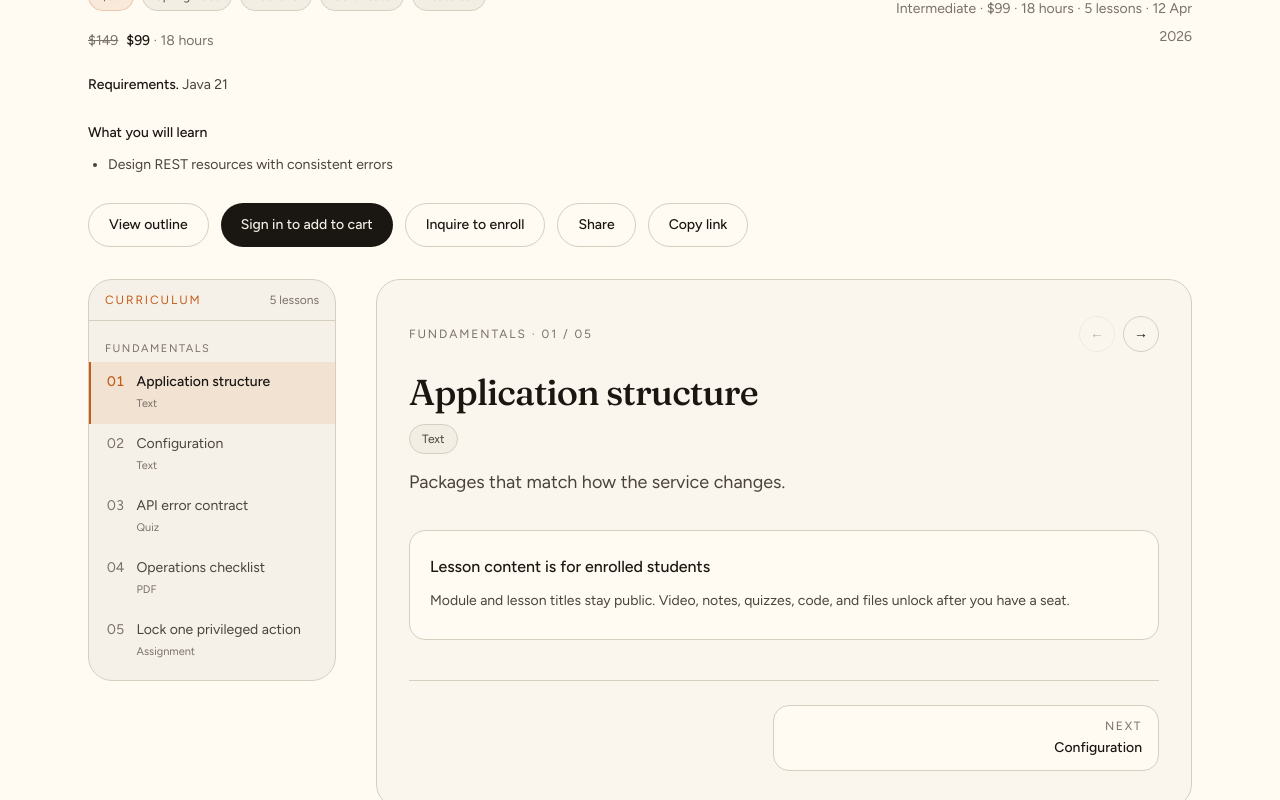
it: CoursesPage › renders a premium course outline and inquire link without lesson bodies
(page scrolled)
Expected: the text "Lesson content is for enrolled students" is shown, [430,557,710,576]
Expected: the button "View outline" is shown, [88,203,209,247]
Click the button "Copy link". click: (698, 225)
box: [648,203,748,247]
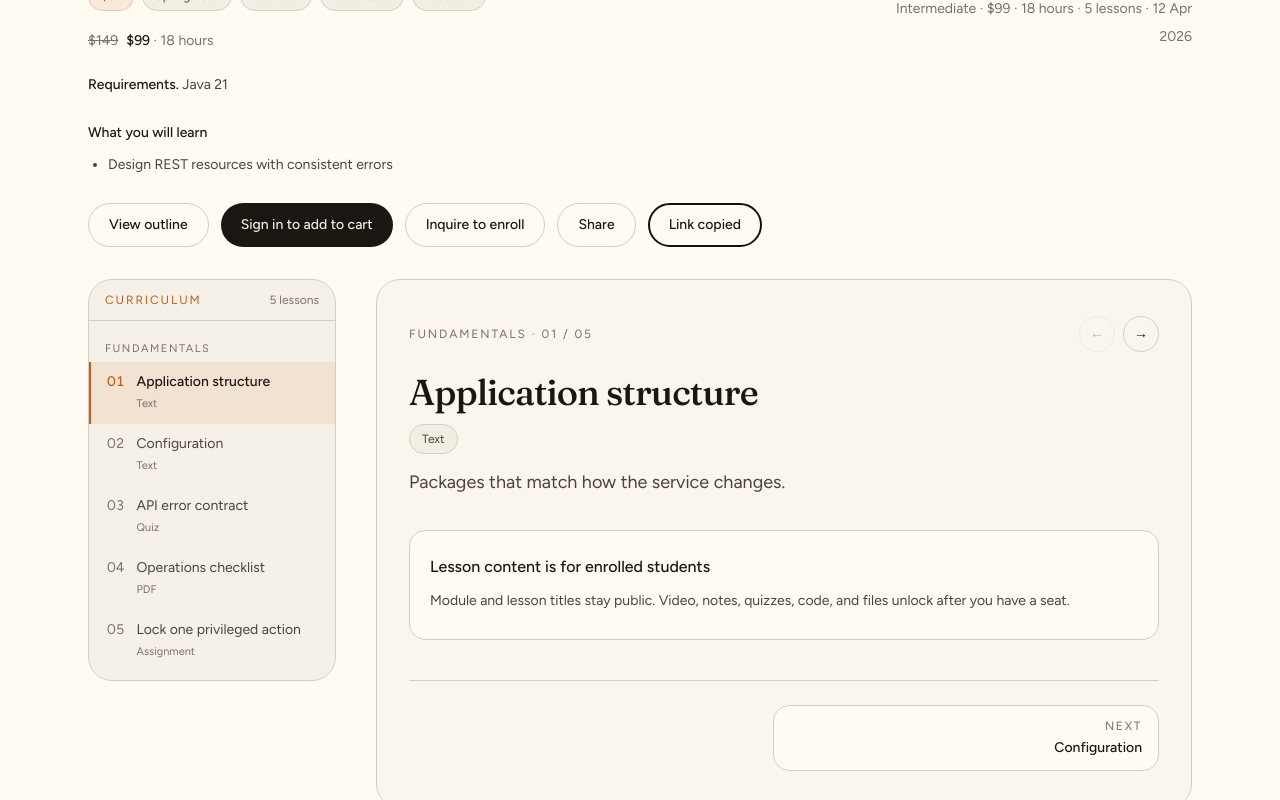
Now the button "Link copied" is shown, box [648,203,762,247]
Click the link "02 Configuration Text". click: (165, 453)
box: [107,434,223,472]
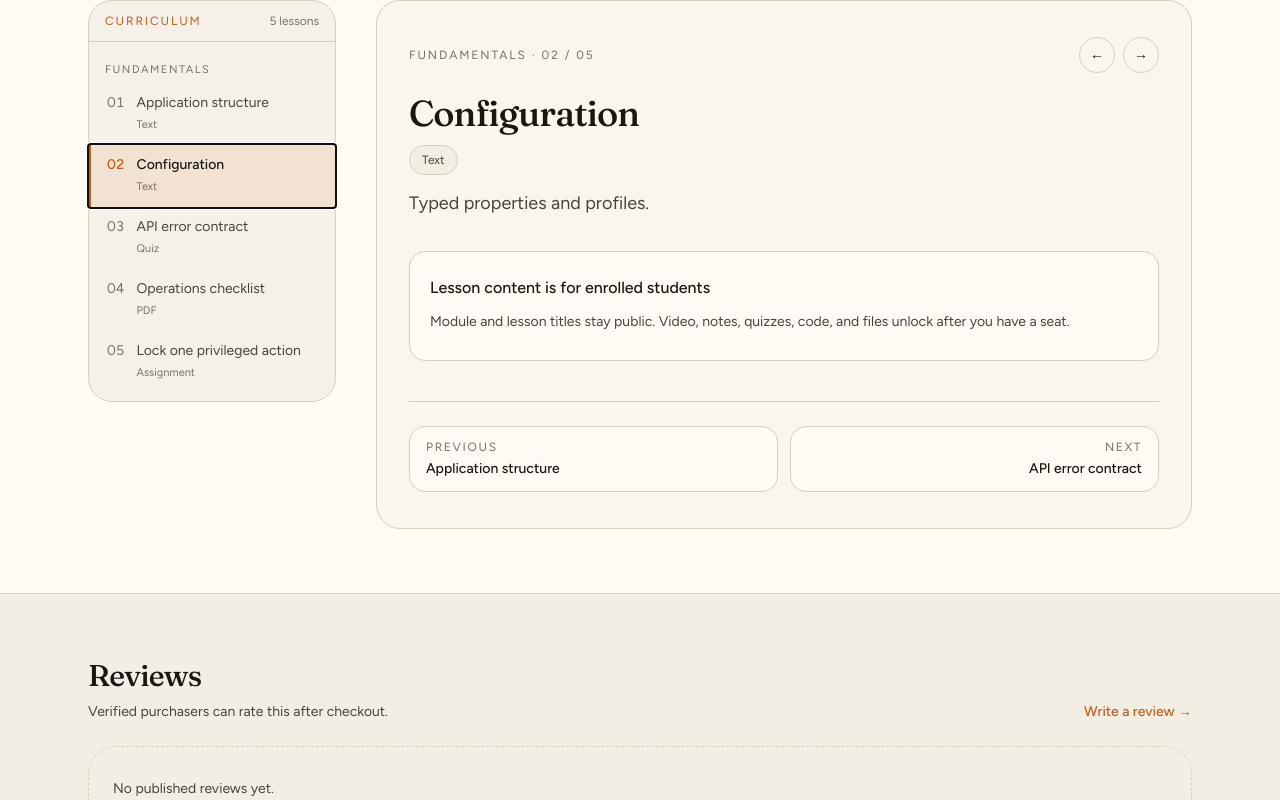
Expected: the text "Lesson content is for enrolled students" is shown, [430,278,710,297]
Now the heading "Configuration" is shown, box [409,91,639,135]
